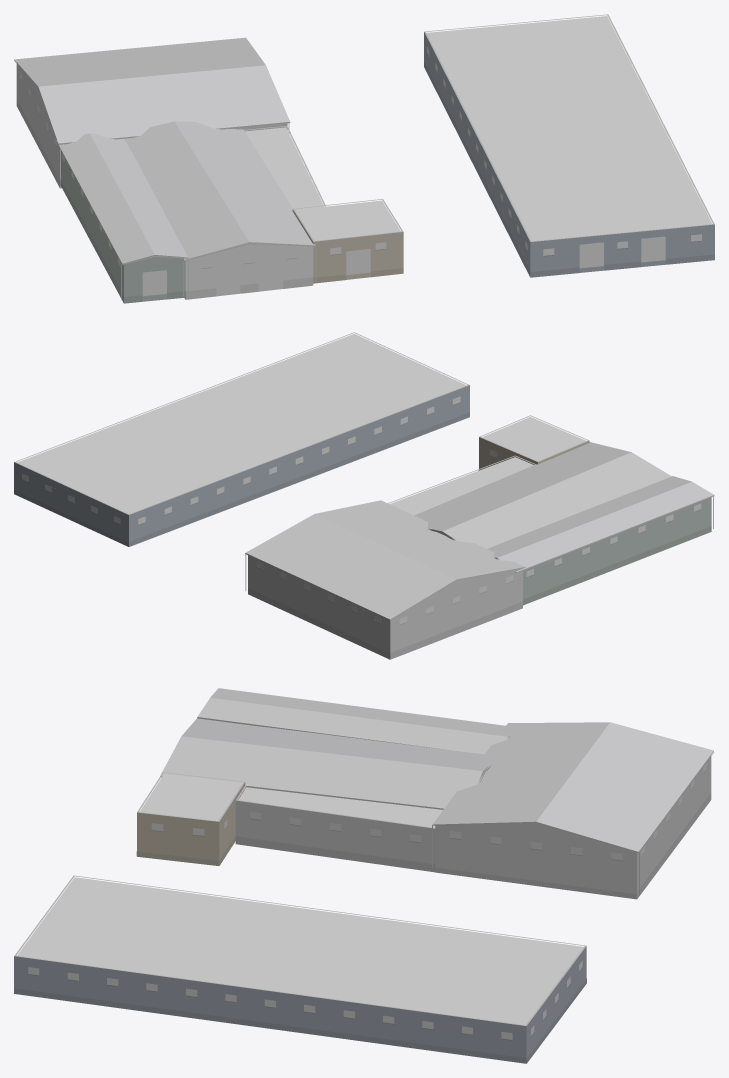
3 views of the same model, one above another, from view 1: azimuth 30°, elevation 25°; view 2: azimuth 150°, elevation 25°; view 3: azimuth 270°, elevation 25° (orthographic). The views are drawn at different scales.
Parts seen in each view (by area): view 1: bld; view 2: bld; view 3: bld.
Part boxes in pixels (<box>): bld: <box>14,14,714,303</box>; bld: <box>14,332,714,659</box>; bld: <box>14,688,714,1063</box>.
Bounding box in the file's own units: 117 × 11.29 × 106.
